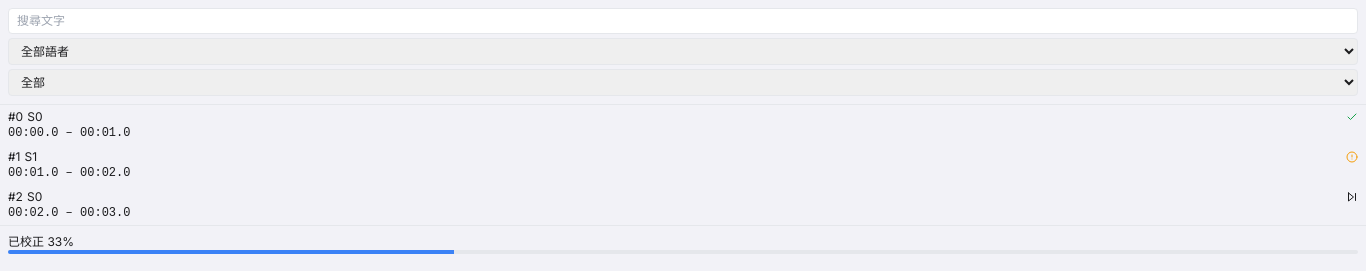
SegmentList › 依狀態篩選：skipped
The width and height of the screenshot is (1366, 271).
Select "已跳過" in the dropdown named "依狀態" at (683,82), box [8,69,1358,96]
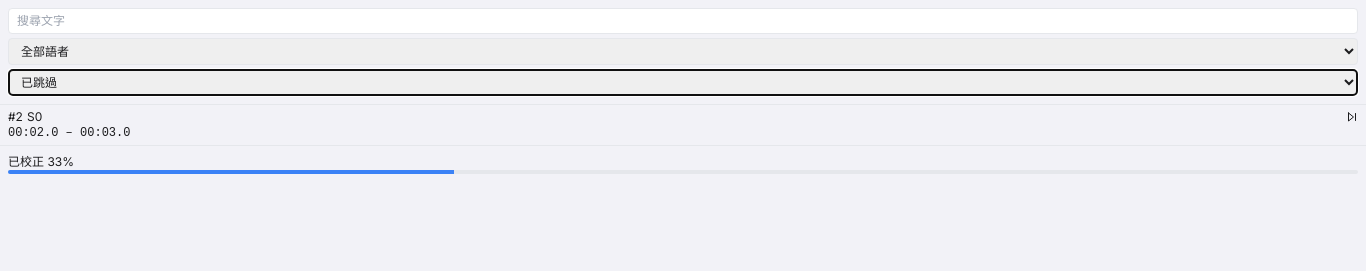
Now the number of list items is 1, box [0,105,1365,145]
